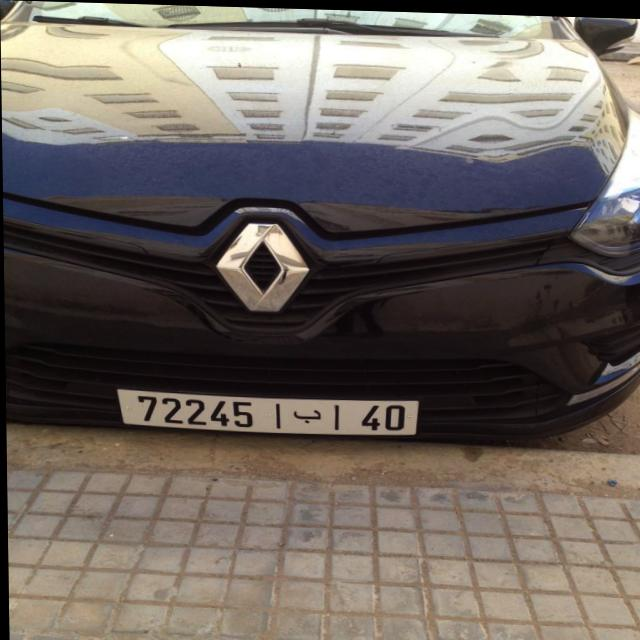License-Plate: (116, 388, 417, 433)
